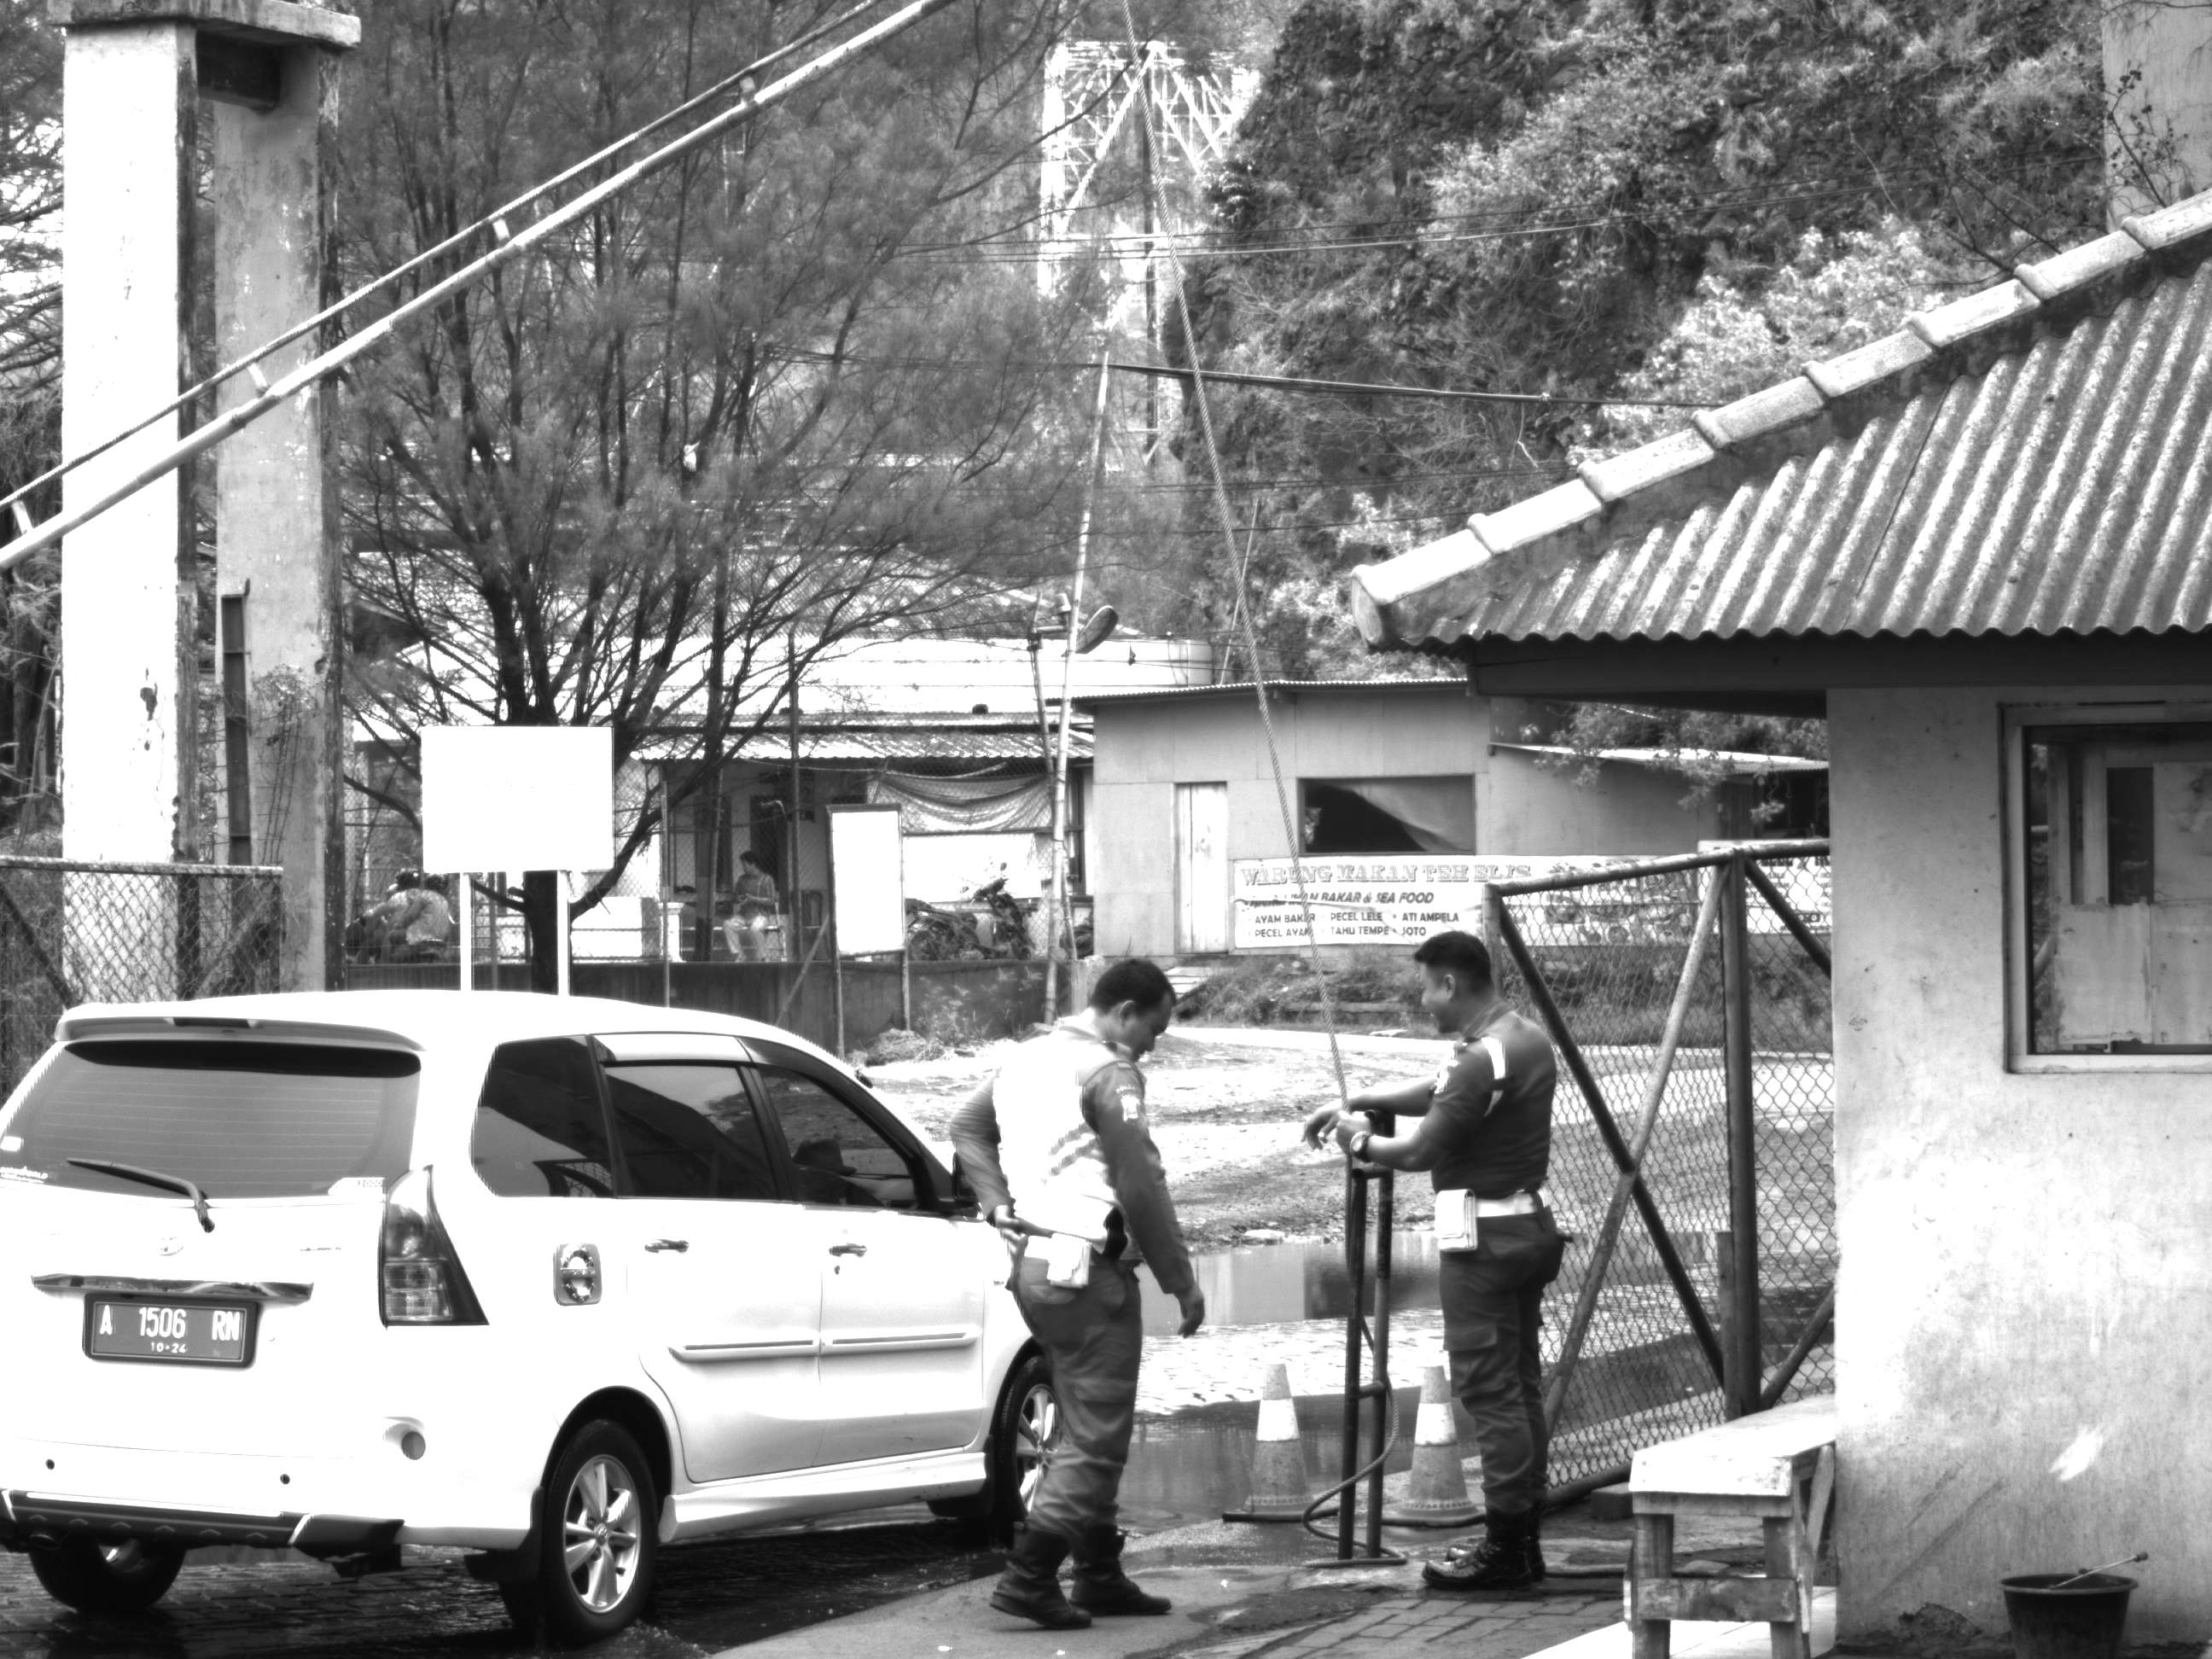day_small_rear: (2, 991, 678, 1639)
plate: (84, 1294, 256, 1376)
